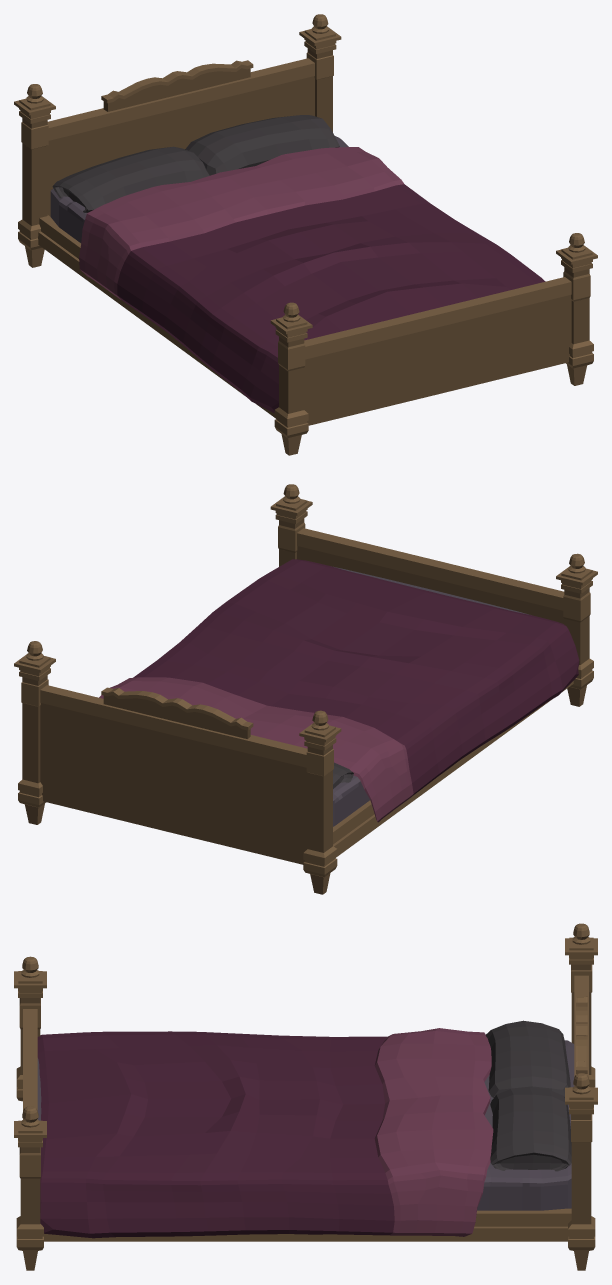
Rendered from BedDouble.glb.
3 views of the same model, one above another, from view 1: azimuth 30°, elevation 25°; view 2: azimuth 150°, elevation 25°; view 3: azimuth 270°, elevation 25° (orthographic). The views are drawn at different scales.
Parts seen in each view (by area): view 1: Comforter, BedFrame, Pillow2, Pillow, Mattress; view 2: Comforter, BedFrame, Mattress; view 3: Comforter, BedFrame, Pillow2, Pillow, Mattress.
Part boxes in pixels (left/top/right/bottom): Comforter: left=79, top=147, right=545, bottom=413; BedFrame: left=14, top=14, right=597, bottom=455; Pillow2: left=185, top=115, right=339, bottom=175; Pillow: left=52, top=146, right=209, bottom=212; Mattress: left=50, top=136, right=348, bottom=243; Comforter: left=99, top=559, right=579, bottom=822; BedFrame: left=14, top=484, right=597, bottom=894; Mattress: left=333, top=566, right=528, bottom=826; Comforter: left=37, top=1028, right=493, bottom=1238; BedFrame: left=14, top=923, right=597, bottom=1270; Pillow2: left=490, top=1087, right=571, bottom=1171; Pillow: left=486, top=1020, right=570, bottom=1097; Mattress: left=37, top=1040, right=574, bottom=1210.
Size of the model in its own units: 2.83 by 1.56 by 4.26.
